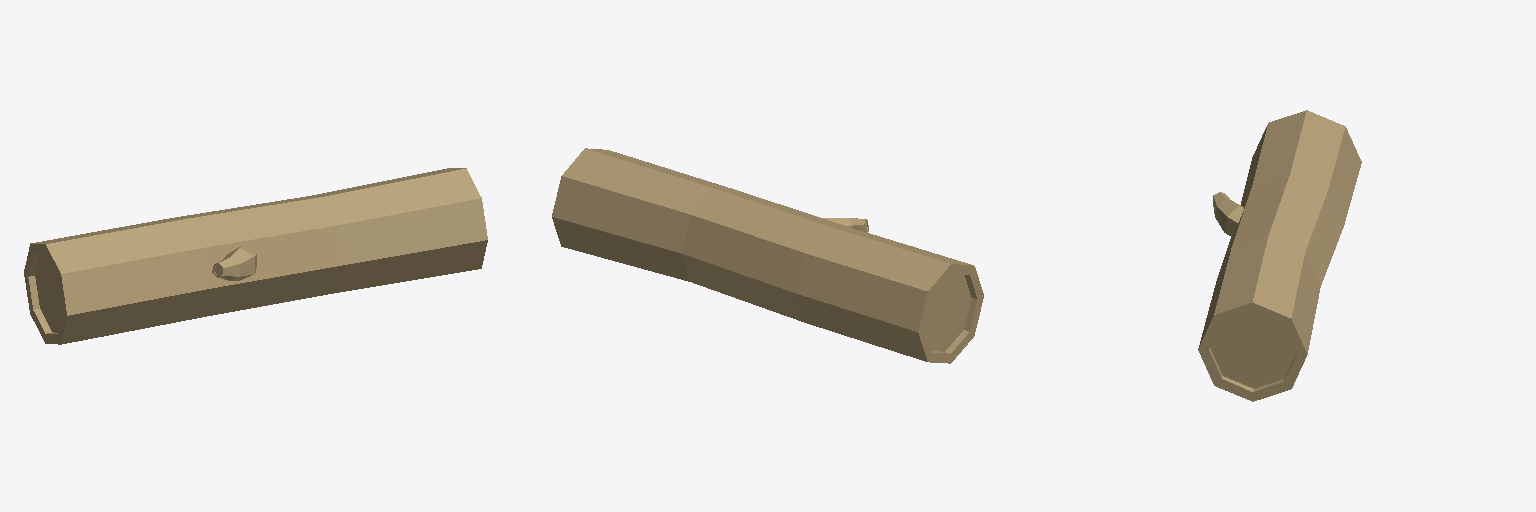
The model's file is log1.obj.
The picture shows the model from 3 angles: view 1: azimuth 30°, elevation 25°; view 2: azimuth 150°, elevation 25°; view 3: azimuth 270°, elevation 25°; orthographic projection.
Parts seen in each view (by area): view 1: Object_16; view 2: Object_16; view 3: Object_16.
Part boxes in pixels (x1,y1,x2,y2): Object_16: (24, 168, 487, 344); Object_16: (552, 148, 983, 363); Object_16: (1198, 110, 1361, 401).
Bounding box in the file's own units: 28.82 × 6.78 × 10.1.